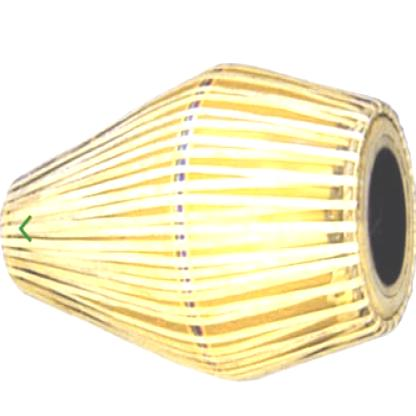Mridangam: (3, 46, 416, 394)
